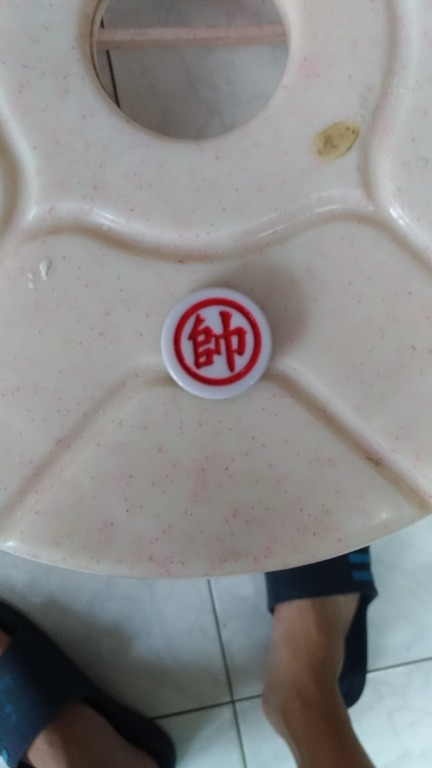r-king: (155, 286, 280, 401)
